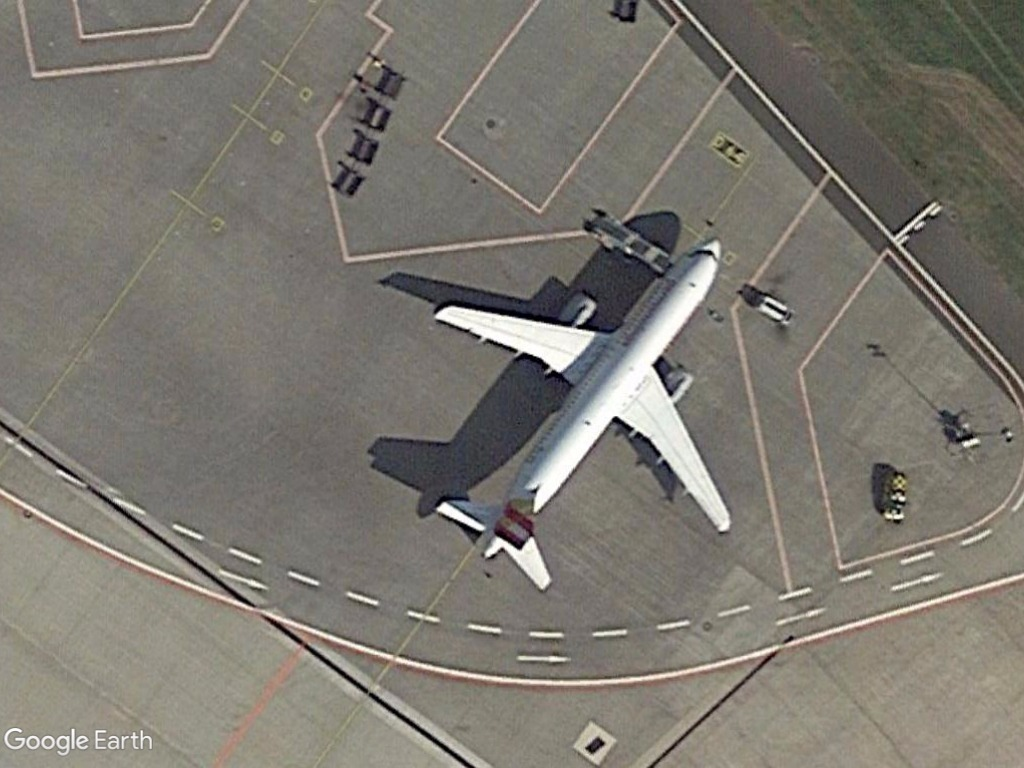airliner: (422, 234, 739, 600)
